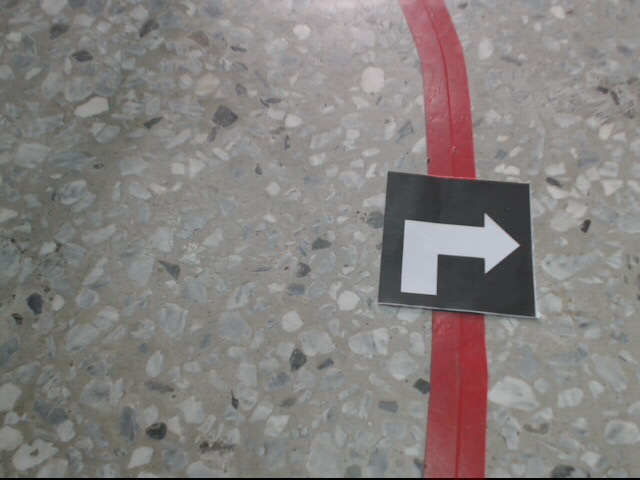right: (378, 171, 543, 315)
